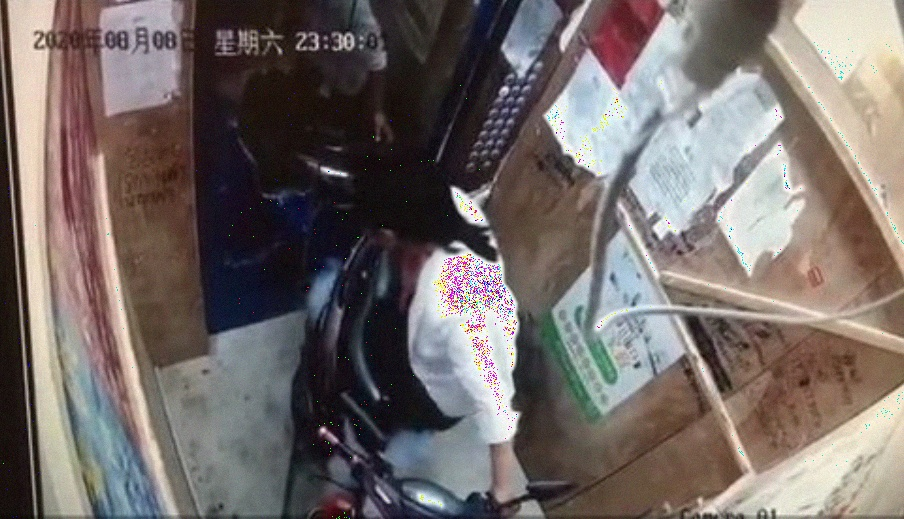ebike: (286, 224, 578, 514)
person: (373, 162, 533, 505)
